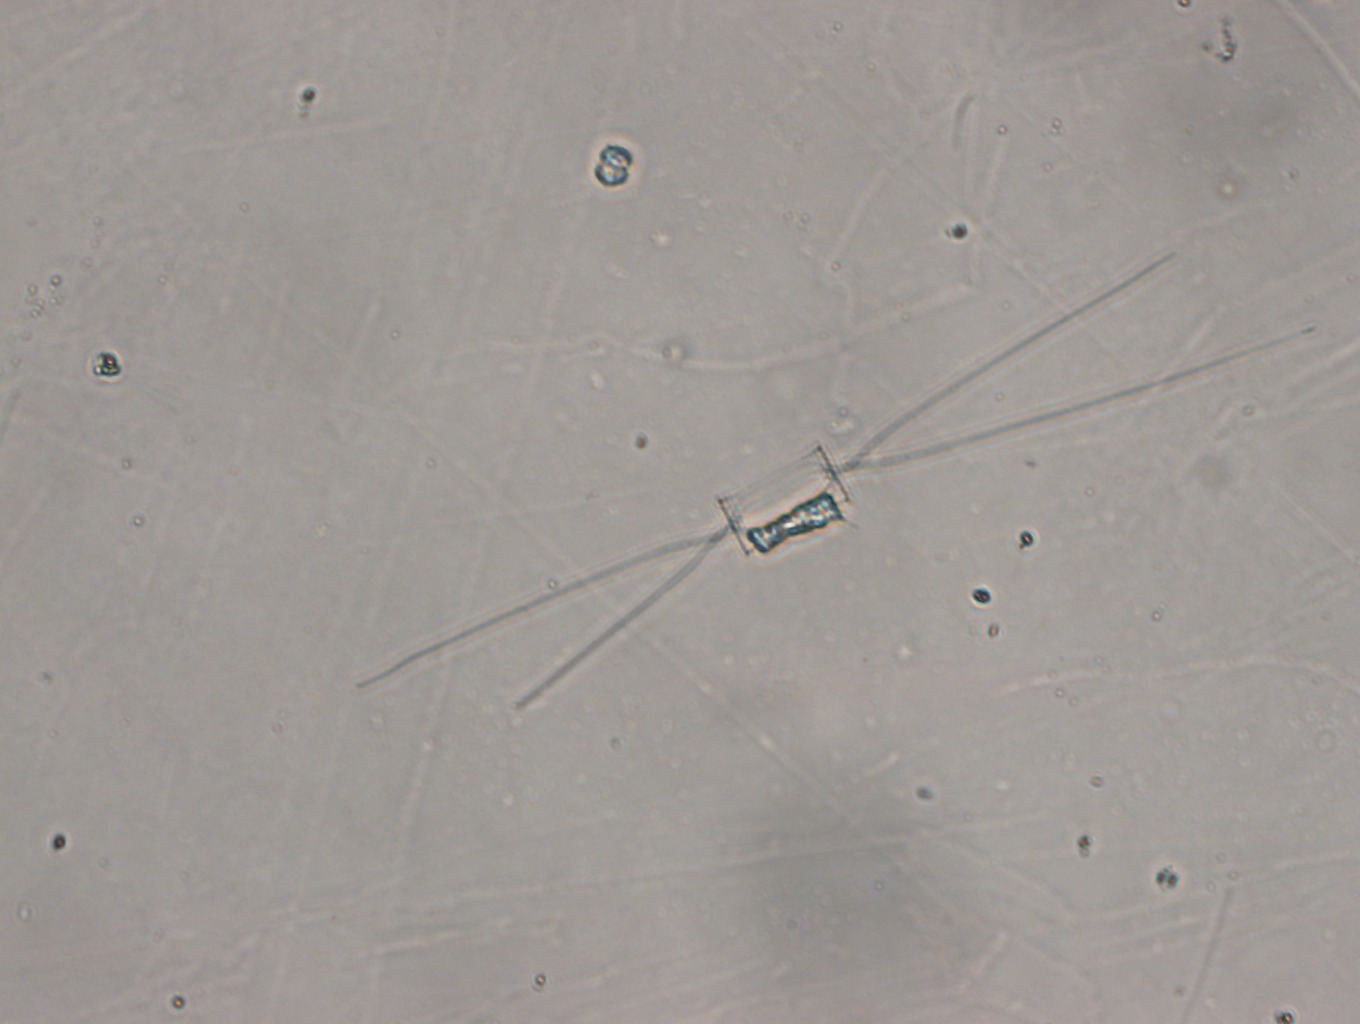chaetoceros: (356, 239, 1322, 711)
